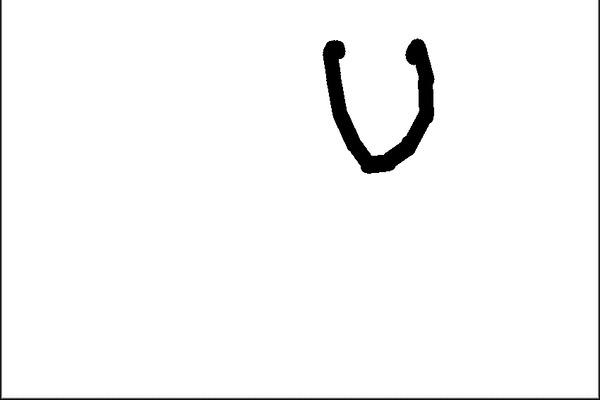U: (311, 33, 444, 178)
